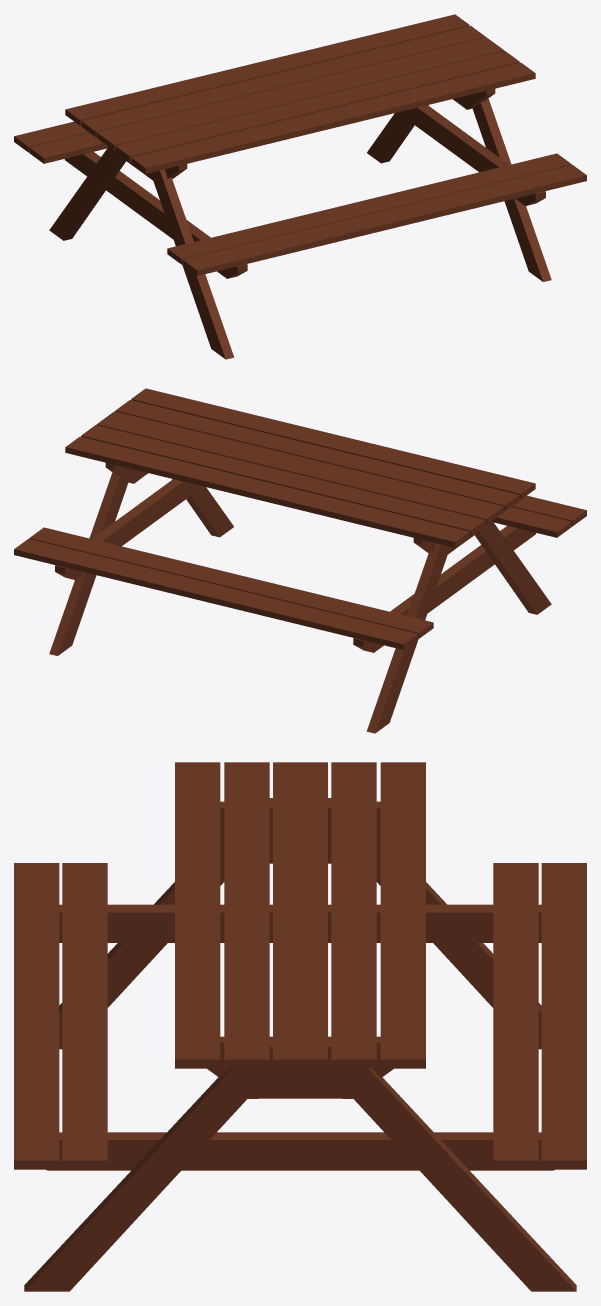
File: table.obj
3 views of the same model, one above another, from view 1: azimuth 30°, elevation 25°; view 2: azimuth 150°, elevation 25°; view 3: azimuth 270°, elevation 25° (orthographic). The views are drawn at different scales.
Visible parts, largest first — view 1: planc.002_Plane.016; view 2: planc.002_Plane.016; view 3: planc.002_Plane.016.
Boxes of the visible parts, <box> form: planc.002_Plane.016: <box>14,14,586,359</box>; planc.002_Plane.016: <box>14,388,586,733</box>; planc.002_Plane.016: <box>14,762,586,1291</box>.
Bounding box in the file's own units: 4.33 × 1.74 × 3.53.
